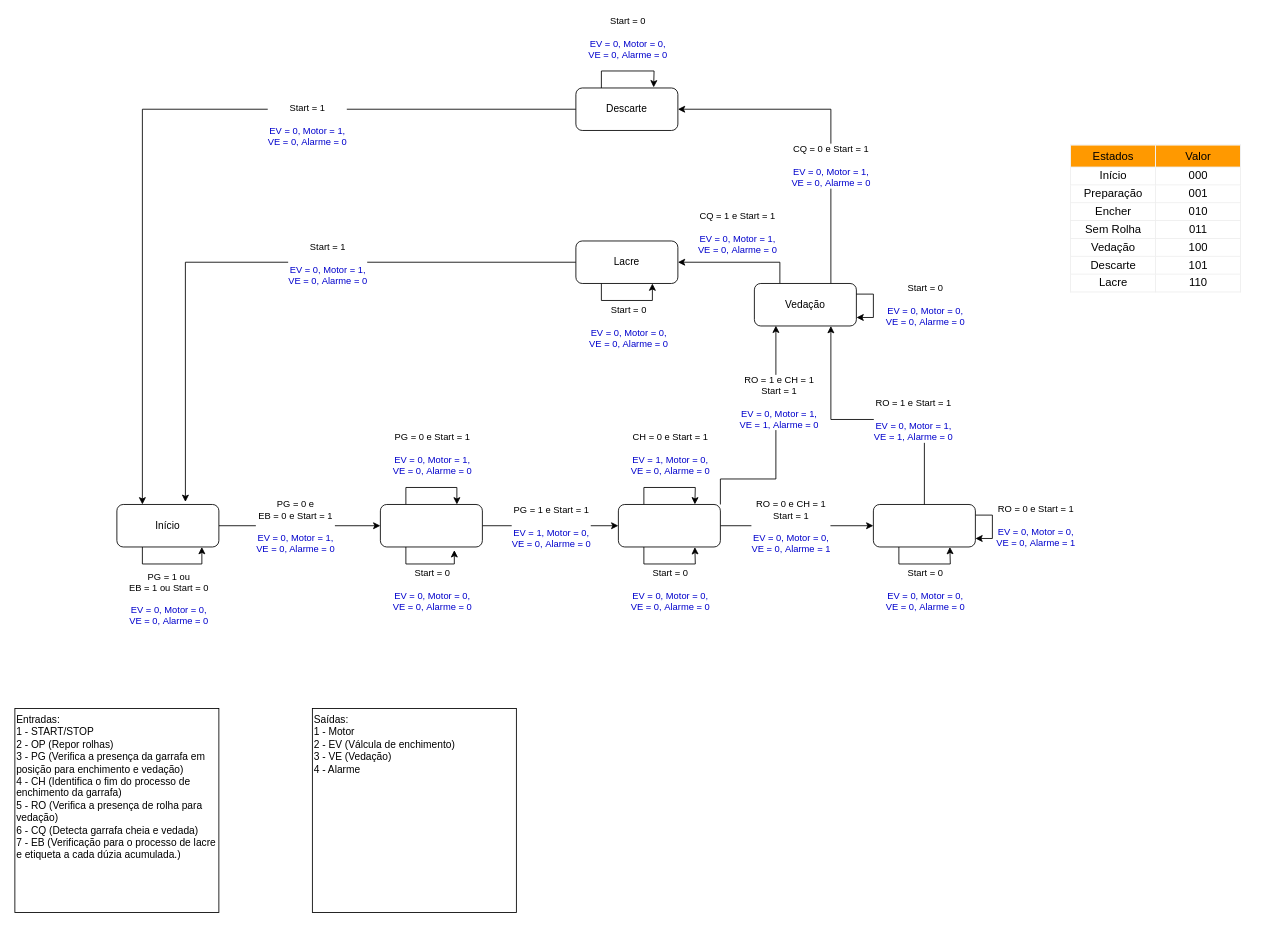
The diagram is 1279 pixels wide and 927 high, and some of its shapes have lost their labels. Each missing label, with the centre of its shape:
Encher: pixel 669 525
Preparação: pixel 431 525
Sem Rolha: pixel 924 525
